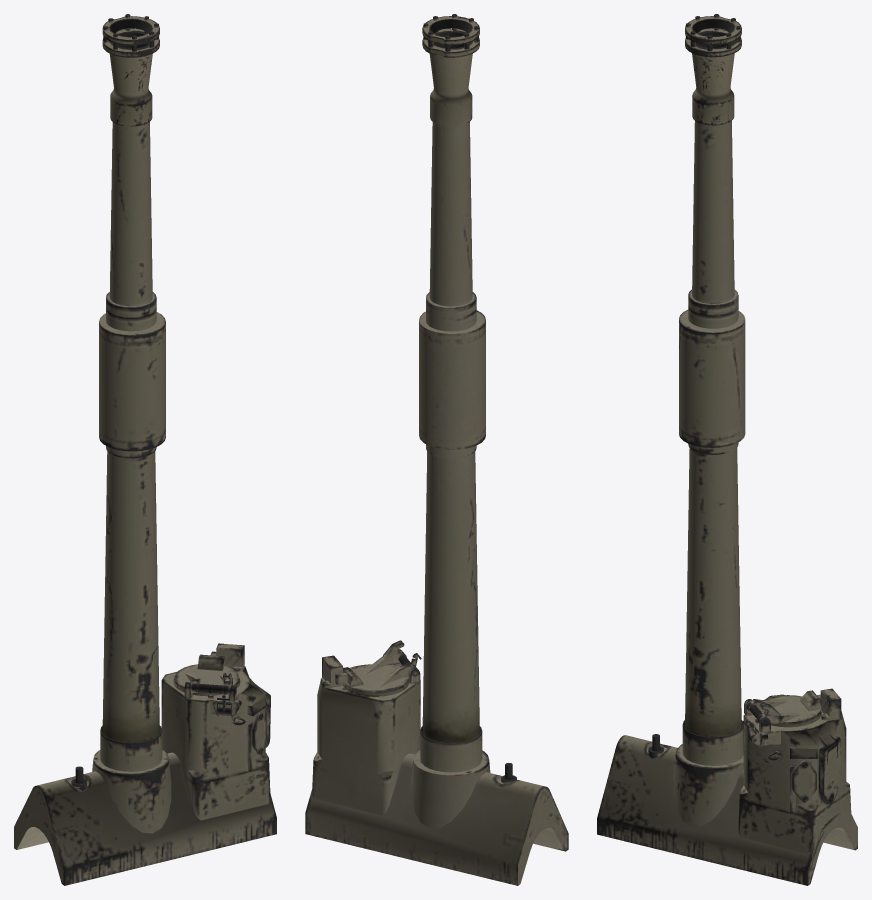
File: Gun_02.glb
3 renders of one model, left to right at view 1: azimuth 30°, elevation 25°; view 2: azimuth 150°, elevation 25°; view 3: azimuth 330°, elevation 25°, orthographic.
Visible parts, largest first — view 1: set_0_group_0; view 2: set_0_group_0; view 3: set_0_group_0.
Boxes of the visible parts, bbox=[...] form: set_0_group_0: bbox=[14, 14, 276, 885]; set_0_group_0: bbox=[305, 14, 568, 885]; set_0_group_0: bbox=[597, 14, 857, 885].
Size of the model in its own units: 0.995 by 3.58 by 0.4545.
1 material, 1 textured.
